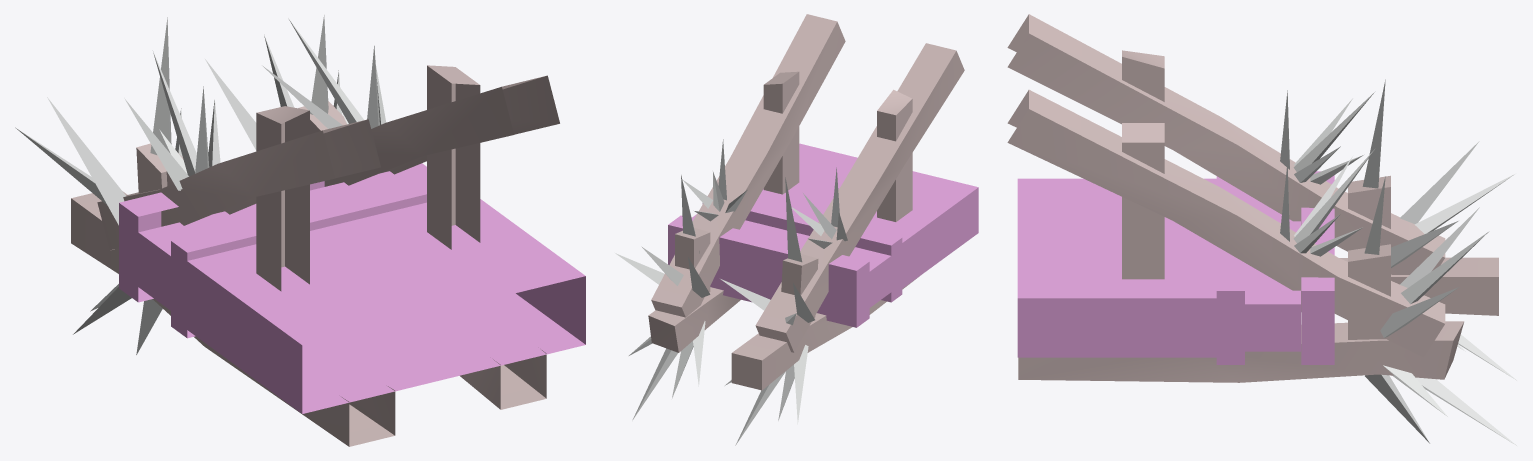
3 renders of one model, left to right at view 1: azimuth 30°, elevation 25°; view 2: azimuth 150°, elevation 25°; view 3: azimuth 270°, elevation 25°, orthographic. The views are drawn at different scales.
Visible parts, largest first — view 1: Object23; view 2: Object23; view 3: Object23.
Part boxes in pixels (x1,y1,x2,y2): Object23: (15,15,585,446); Object23: (615,14,978,445); Object23: (1007,14,1517,446).
Bounding box in the file's own units: 15399 × 20274 × 26982.
